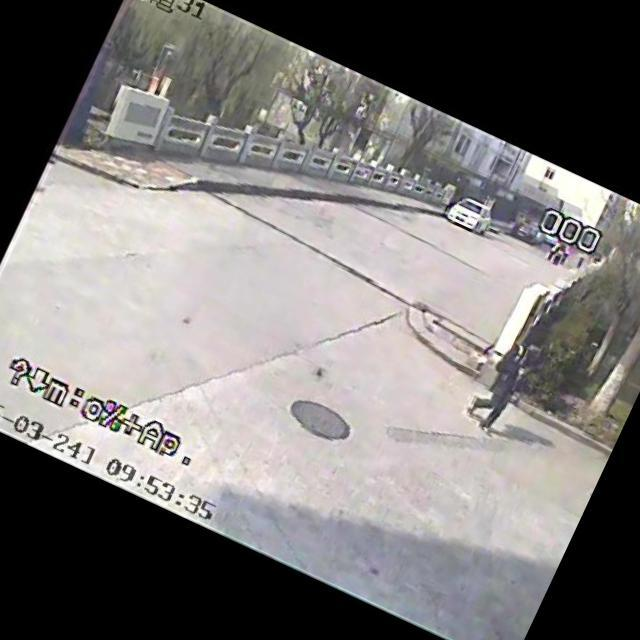person: (454, 328, 556, 454)
